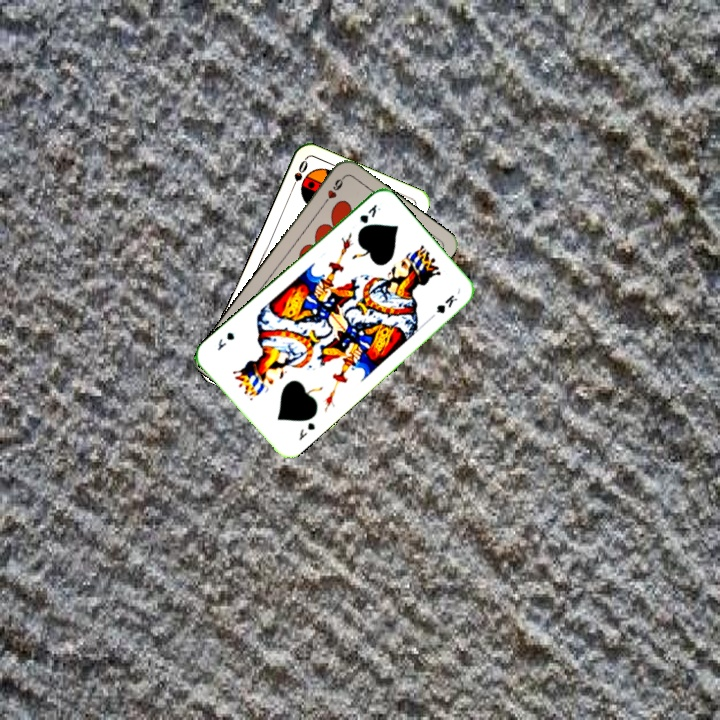GK: (355, 200, 383, 226), (295, 418, 318, 443)
H9: (319, 173, 347, 208)
SO: (287, 156, 310, 195)
